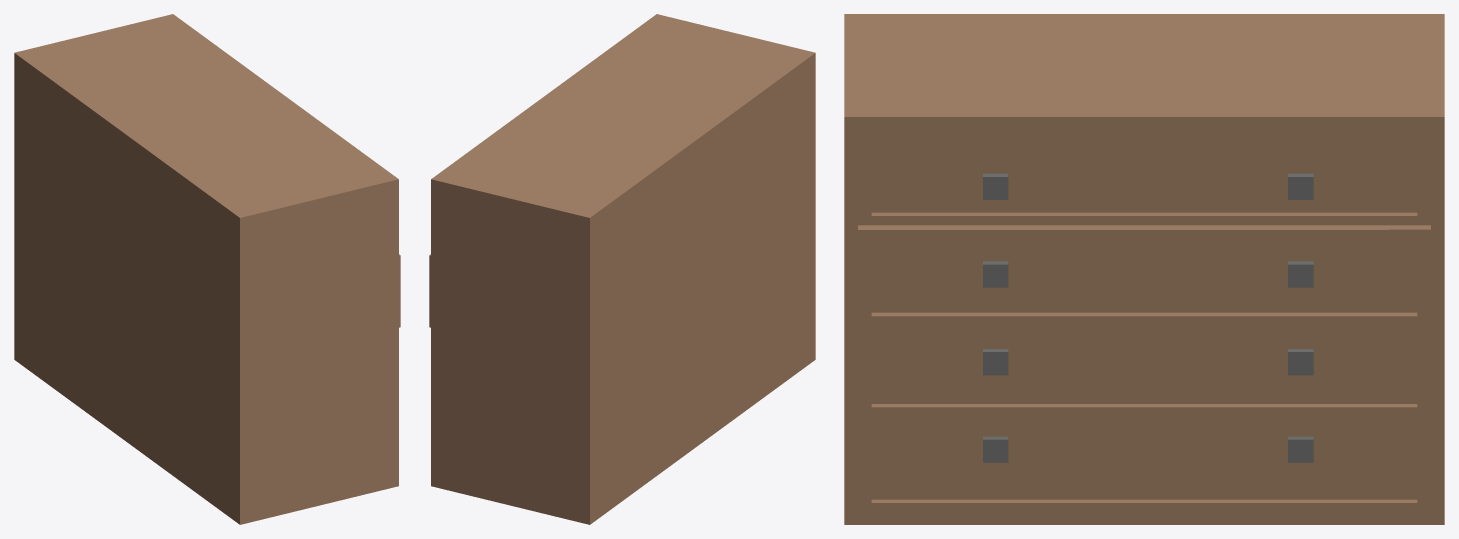
Rendered from Tocador.fbx.
3 views of the same model, side by side, from view 1: azimuth 30°, elevation 25°; view 2: azimuth 150°, elevation 25°; view 3: azimuth 270°, elevation 25° (orthographic). The views are drawn at different scales.
Parts seen in each view (by area): view 1: Tocador; view 2: Tocador; view 3: Tocador.
Boxes of the visible parts, x1,y1,x2,y2 form: Tocador: [14, 14, 400, 524]; Tocador: [429, 14, 815, 524]; Tocador: [844, 14, 1444, 524].
Bounding box in the file's own units: 67.83 × 120 × 160.
